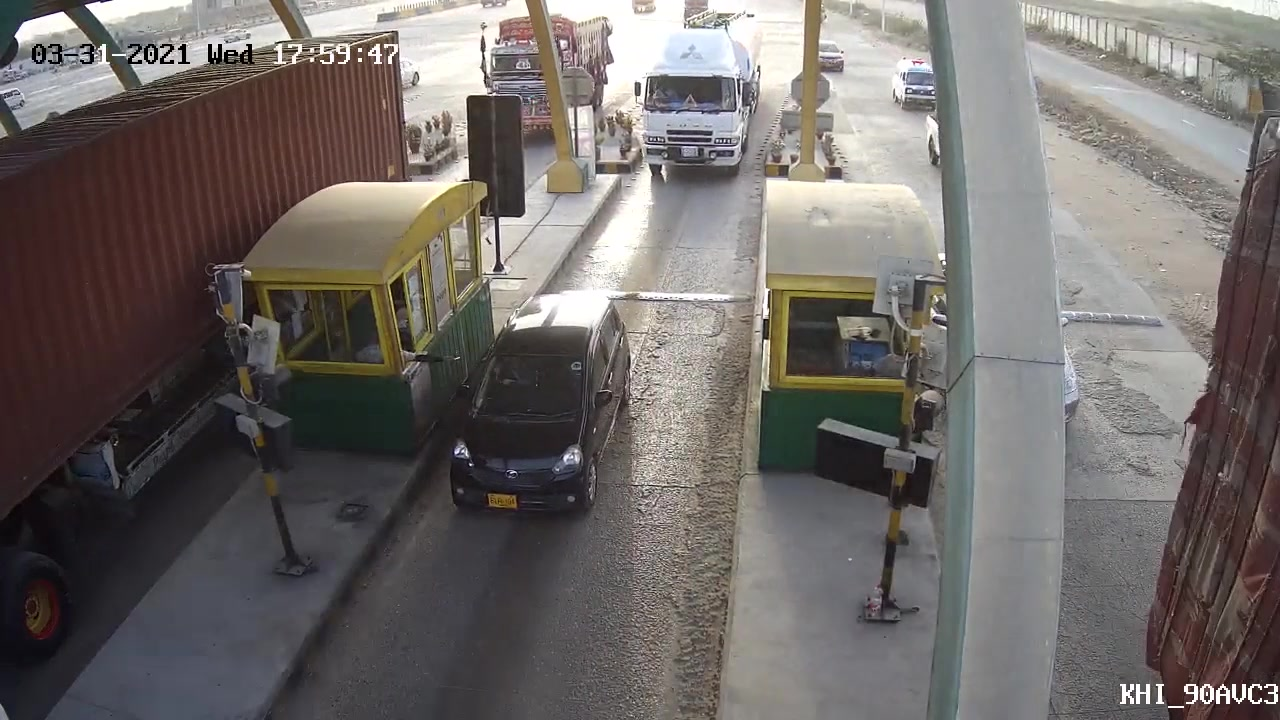F1: (436, 284, 644, 530)
F6: (624, 3, 768, 180)
